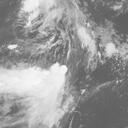cyclone: (13, 62, 71, 119), (23, 1, 80, 32)
